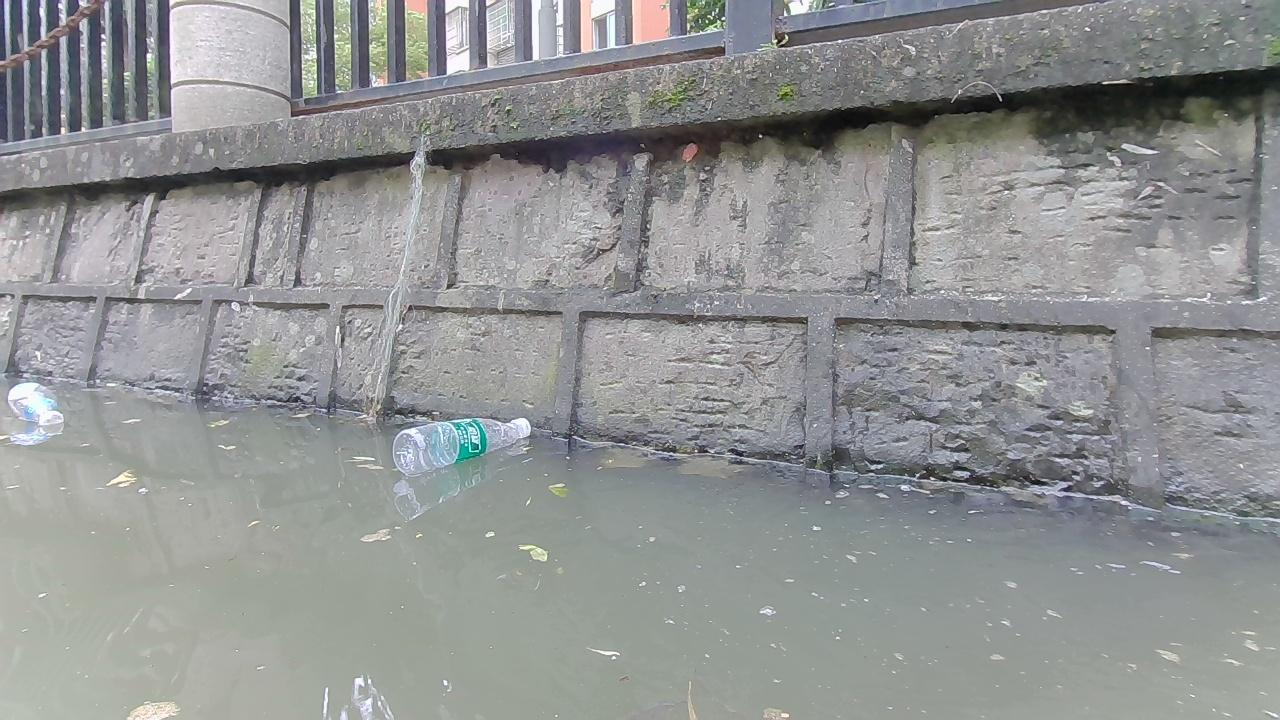bottle: (392, 416, 532, 475), (8, 382, 64, 426)
